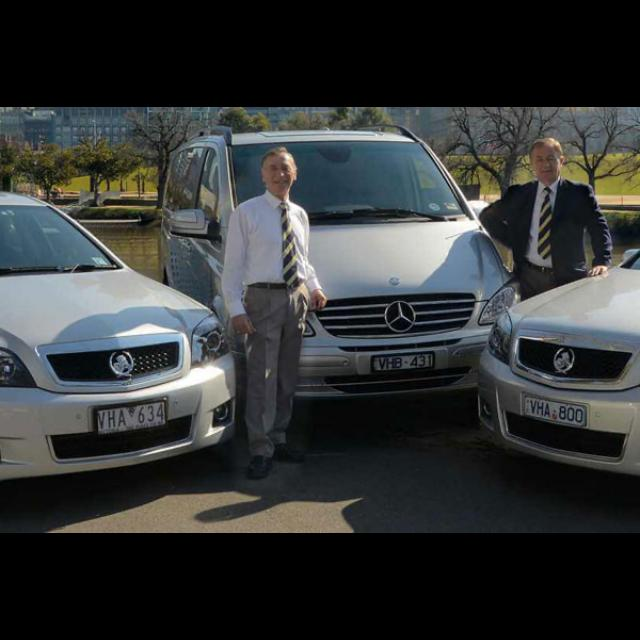carPlate: (93, 397, 169, 439), (522, 393, 589, 428), (370, 350, 436, 373)
